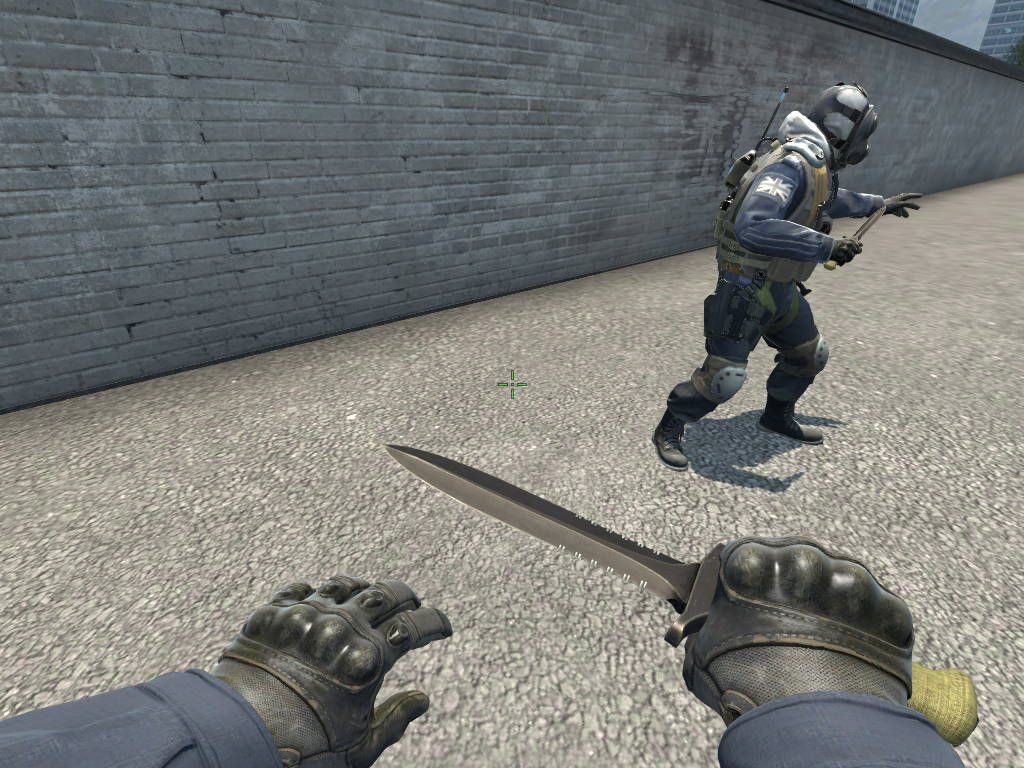ct head: (808, 80, 880, 167)
